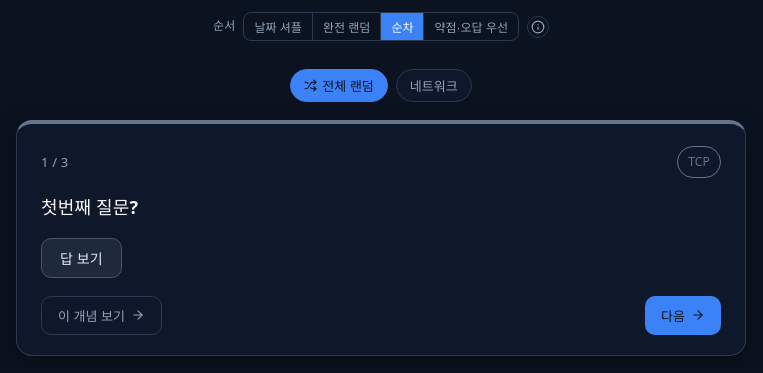
Test: QuizView card position › resets to the first card when the scope changes
The image size is (763, 373).
Expected: the text "첫번째 질문?" is shown, [41,195,138,219]
Click the button "다음" at (683,316), box [645,296,721,335]
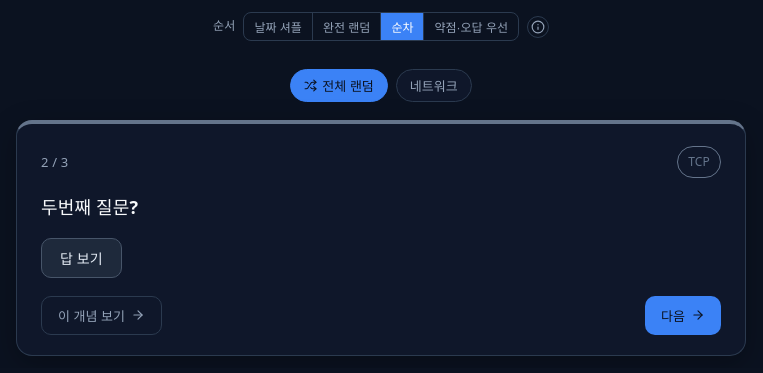
Click the button "네트워크" at (434,86), box [396,69,472,102]
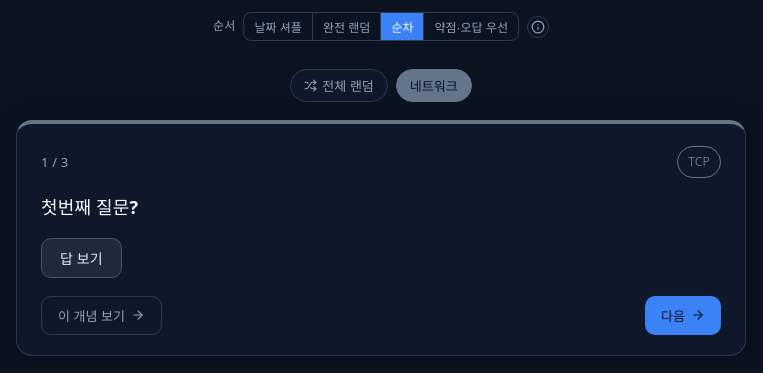
Expected: the text "첫번째 질문?" is shown, [41,195,138,219]
